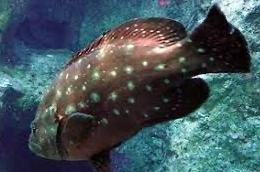Serranidae -Groupers-: (24, 0, 260, 172)
